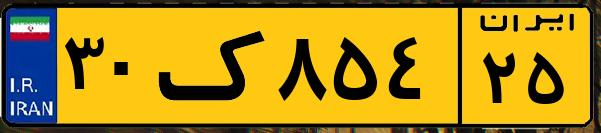0: (110, 28, 158, 98)
2: (475, 38, 525, 113)
3: (57, 26, 110, 100)
4: (385, 28, 445, 110)
5: (330, 28, 385, 110), (525, 38, 570, 115)
8: (270, 28, 330, 110)
ک: (158, 12, 270, 120)
